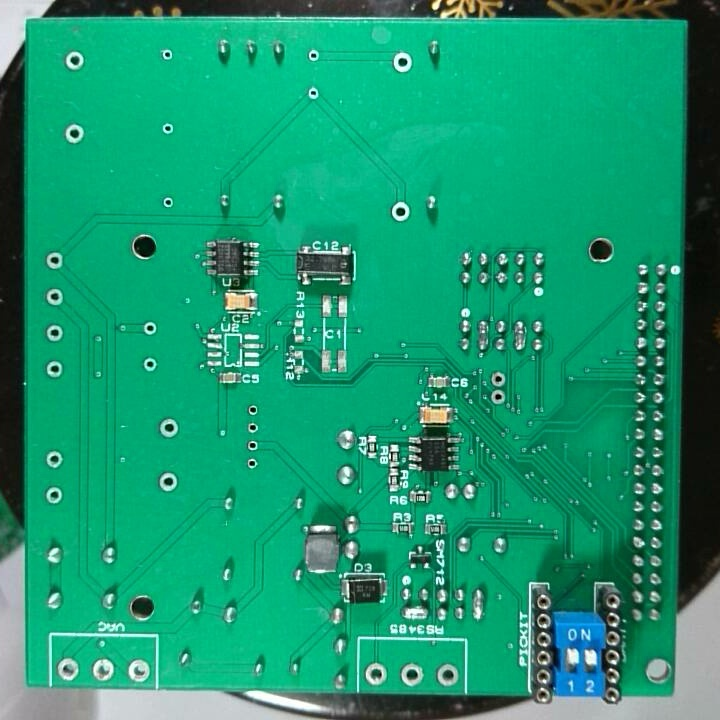F: (362, 658, 388, 689), (398, 660, 426, 688), (89, 655, 116, 684), (125, 656, 152, 683), (55, 655, 82, 682), (389, 48, 416, 75), (62, 47, 88, 73), (435, 660, 459, 687), (62, 120, 86, 147), (388, 198, 411, 226), (157, 469, 179, 496), (156, 415, 179, 440), (43, 447, 65, 472), (43, 358, 66, 381), (44, 286, 68, 307), (43, 323, 65, 345), (44, 250, 65, 272), (43, 483, 63, 506), (140, 352, 159, 375), (141, 318, 160, 341), (157, 47, 179, 64), (304, 83, 322, 103), (489, 369, 507, 388), (244, 399, 262, 418), (159, 120, 176, 140), (305, 46, 322, 66), (489, 387, 506, 405), (245, 437, 261, 456), (160, 194, 175, 212), (243, 456, 259, 472), (245, 419, 259, 437)
P: (510, 317, 530, 352), (469, 585, 488, 620), (398, 604, 431, 622), (475, 317, 490, 352)
